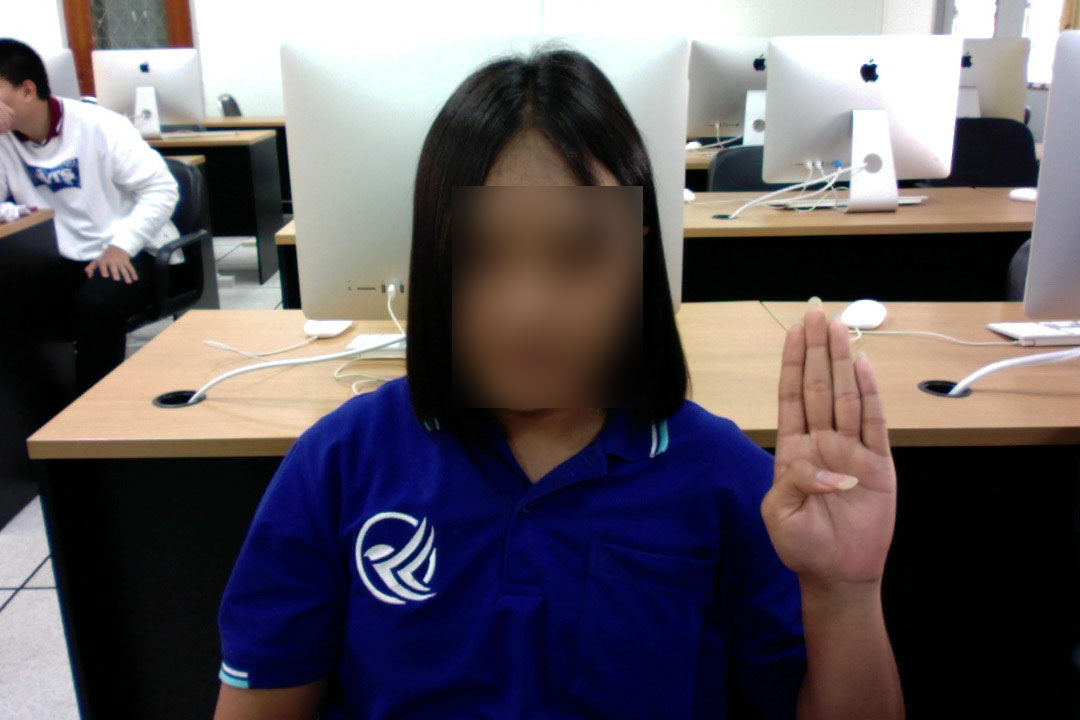bor: (755, 292, 902, 592)
